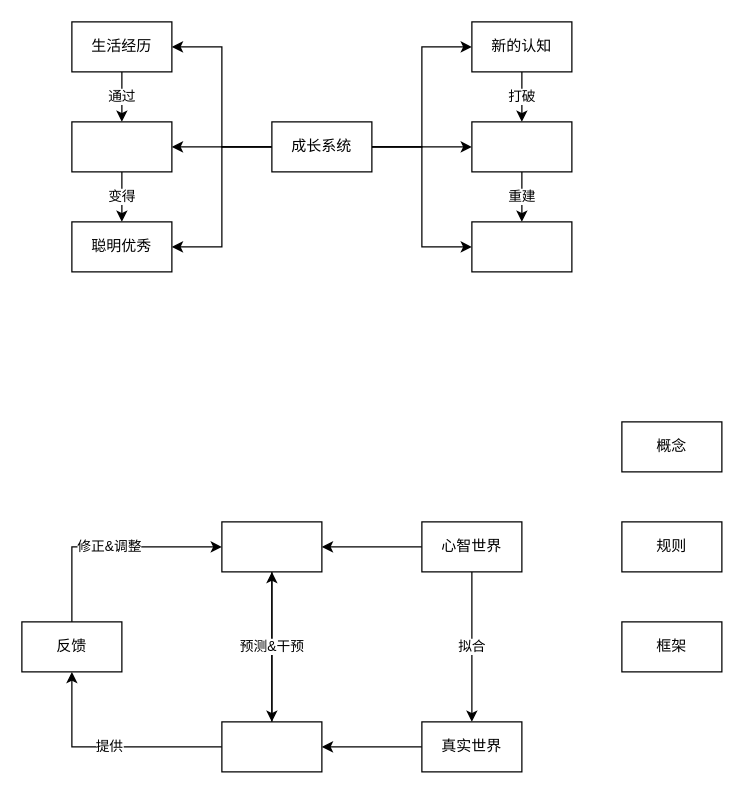
The diagram is 744 pixels wide and 794 high, and some of its shapes have lost their labels. The centre of each missing label's shape, as x and y in pixels:
"外界信息" goes at point 271,746.
"思考方式" goes at point 521,246.
"旧的认知" goes at point 521,146.
"系统有效 思维方式" goes at point 121,146.
"预测模型" goes at point 271,546.
